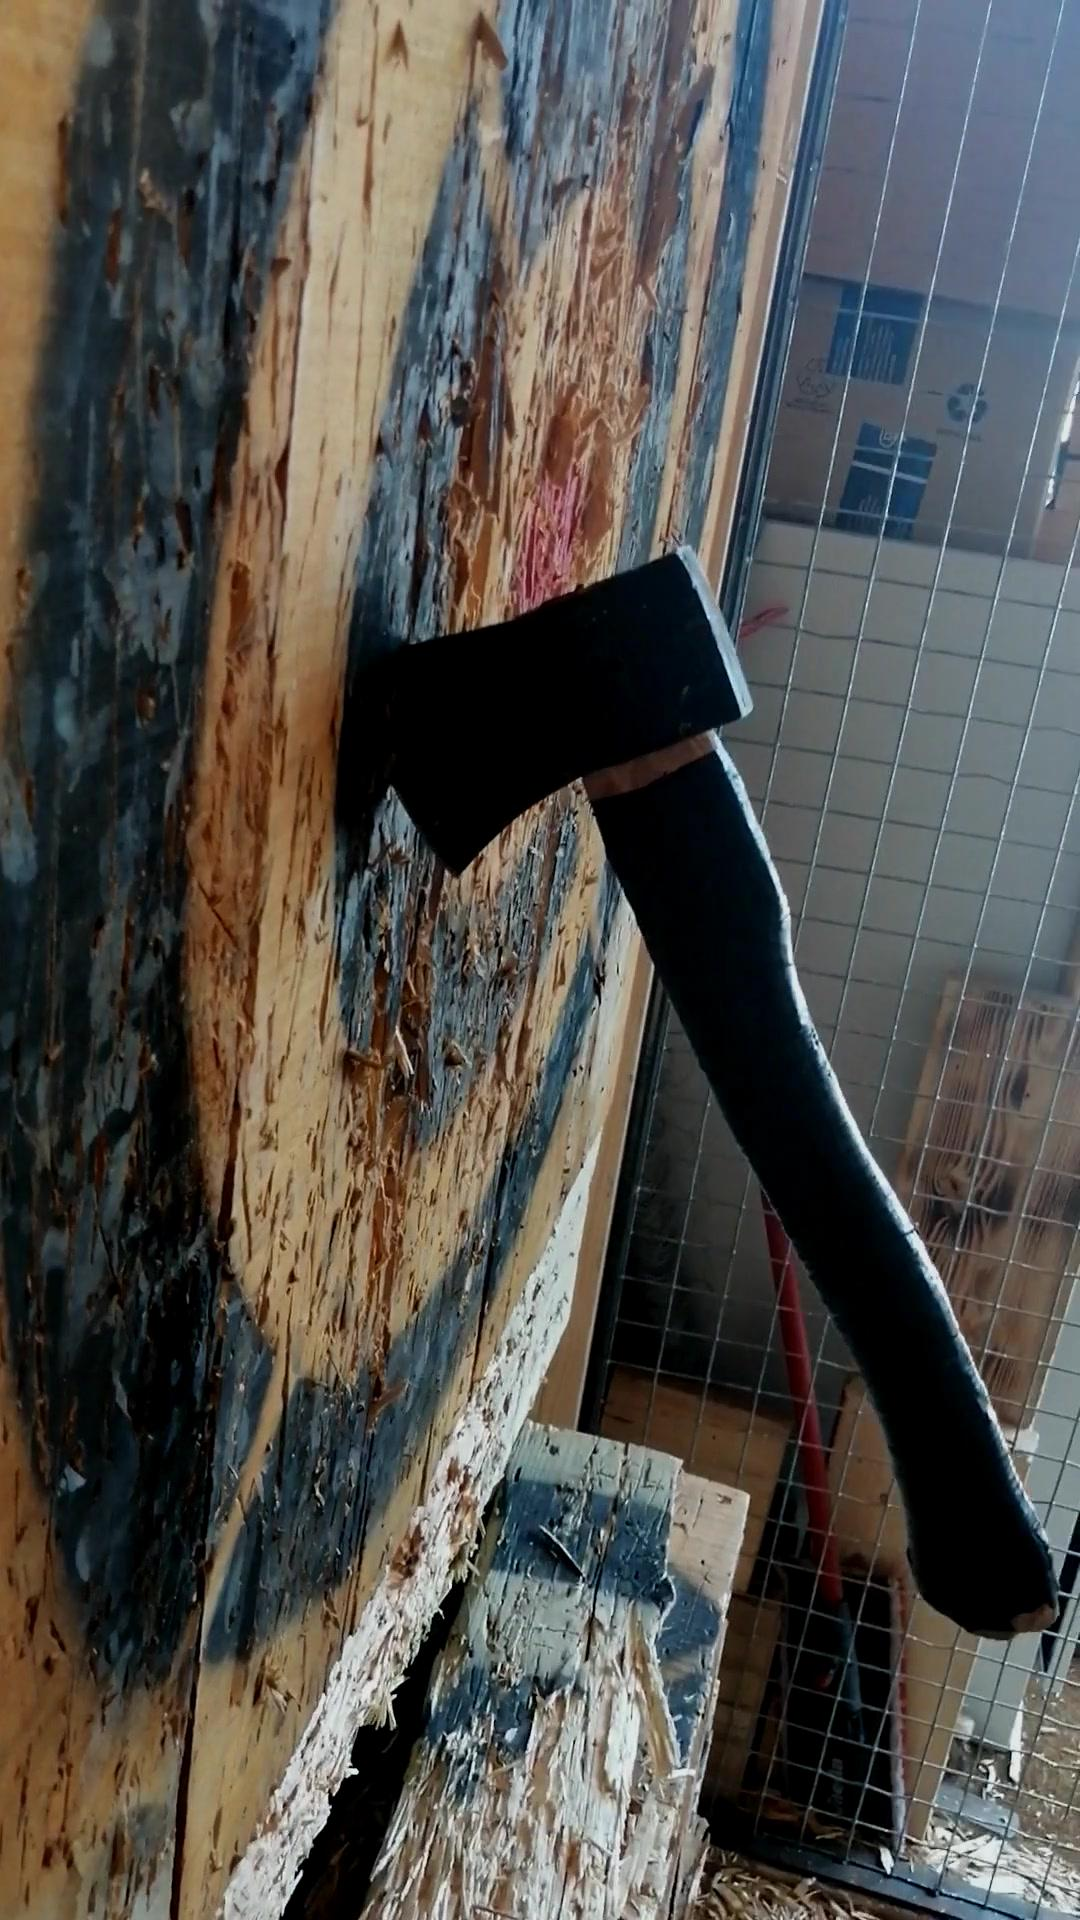Hand Axe: (429, 549, 754, 885)
